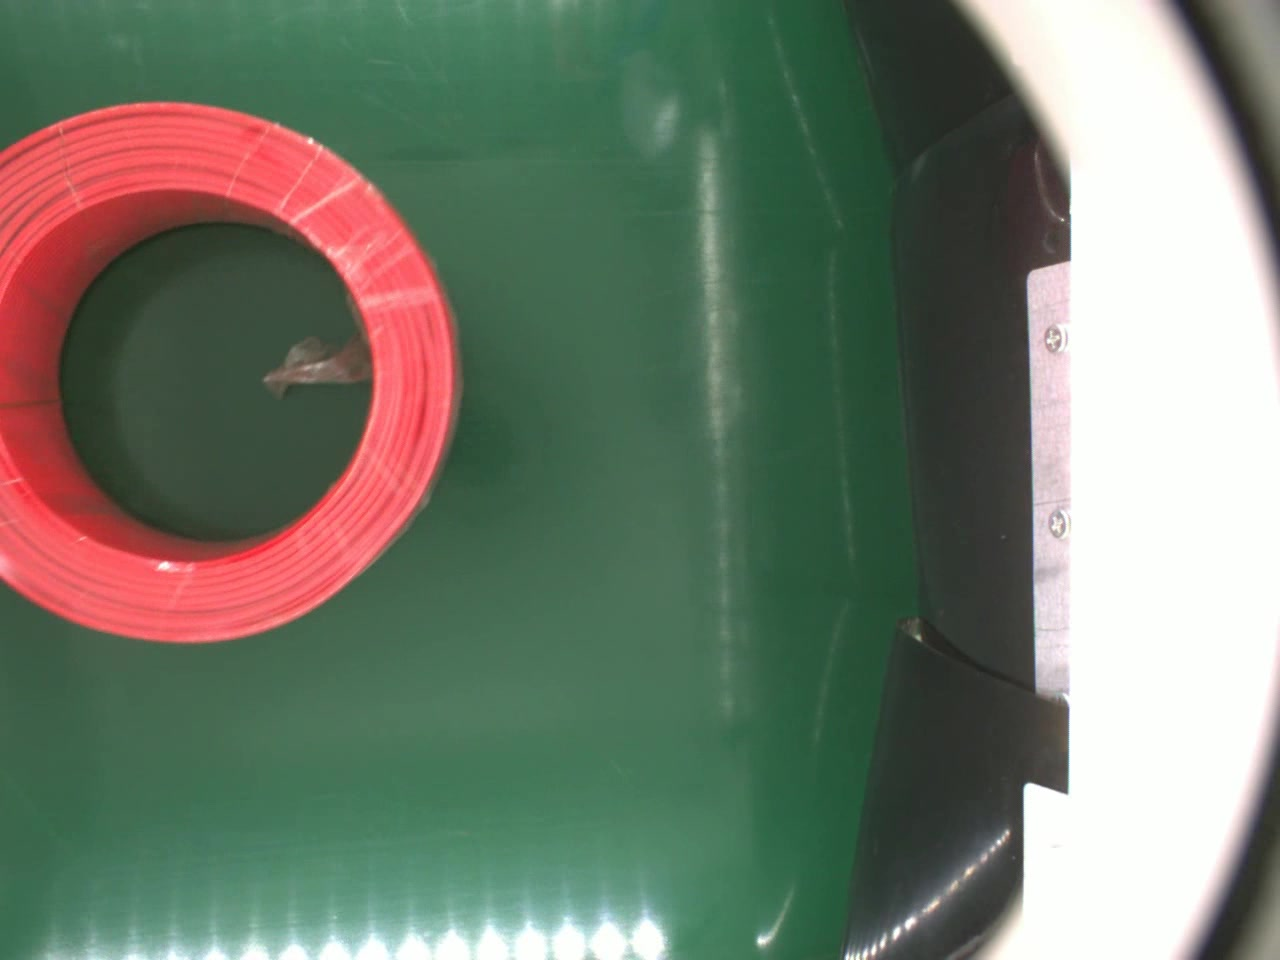red: (0, 106, 462, 644)
